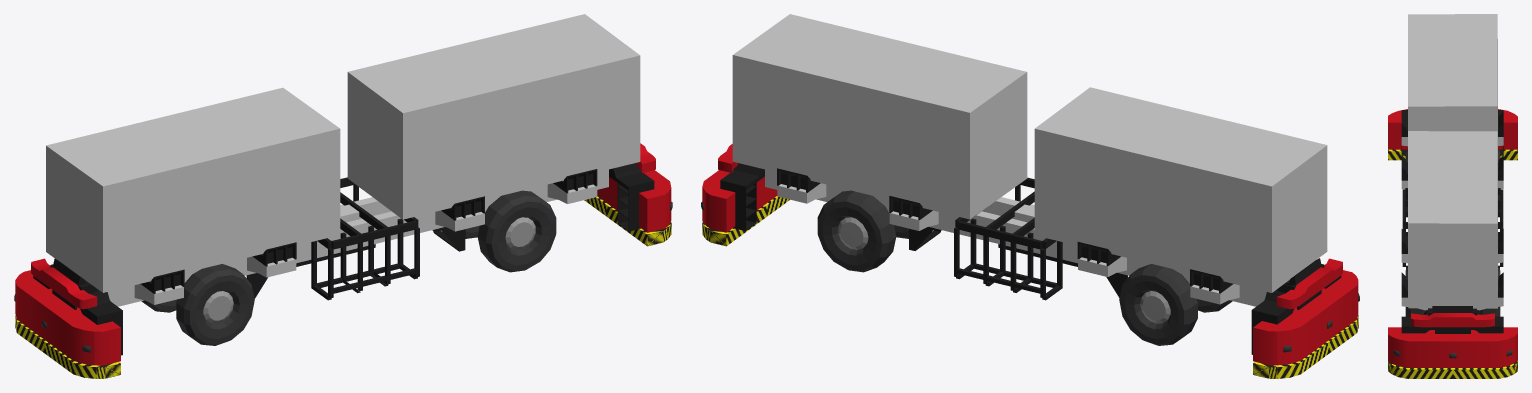
File: sm_tuobanche_jzx.fbx
3 renders of one model, left to right at view 1: azimuth 30°, elevation 25°; view 2: azimuth 150°, elevation 25°; view 3: azimuth 270°, elevation 25°, orthographic. The views are drawn at different scales.
Visible parts, largest first — view 1: sm_tuobanche_jzx; view 2: sm_tuobanche_jzx; view 3: sm_tuobanche_jzx.
Part boxes in pixels (x1,y1,x2,y2): sm_tuobanche_jzx: (14, 14, 672, 378); sm_tuobanche_jzx: (701, 14, 1359, 378); sm_tuobanche_jzx: (1388, 14, 1517, 378).
Bounding box in the file's own units: 15.32 × 4.6 × 3.6.
